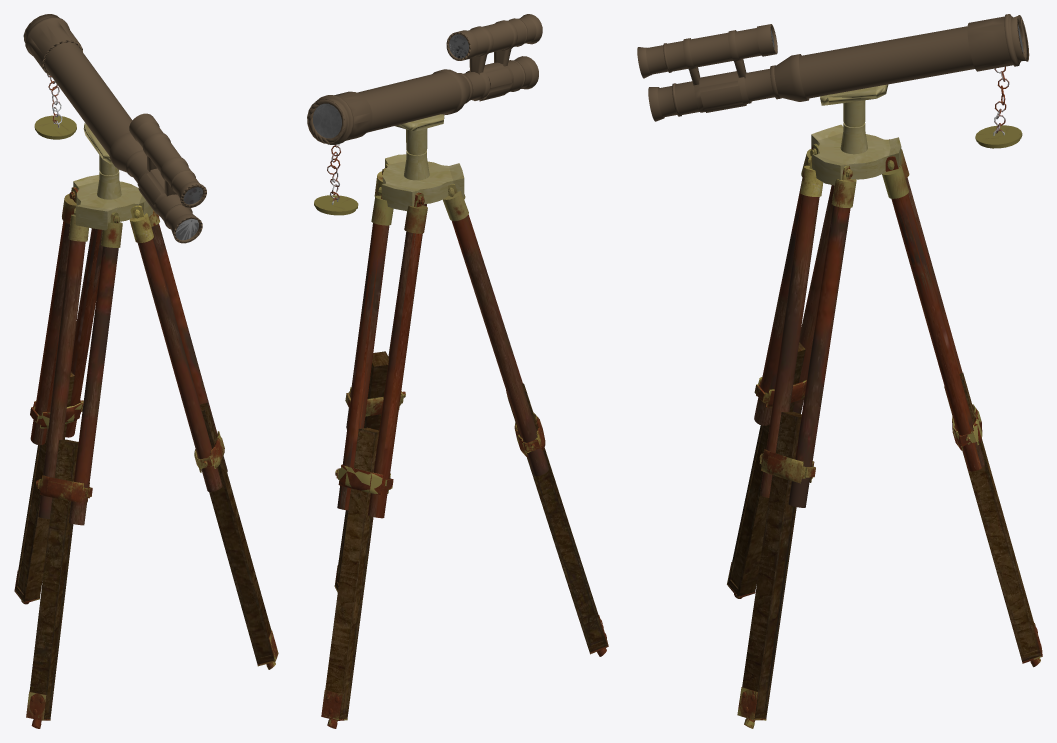
Rendered from luneta-tripe.glb.
The picture shows the model from 3 angles, left to right: view 1: azimuth 30°, elevation 25°; view 2: azimuth 150°, elevation 25°; view 3: azimuth 270°, elevation 25°; orthographic projection. The views are drawn at different scales.
Parts seen in each view (by area): view 1: luneta-tripe; view 2: luneta-tripe; view 3: luneta-tripe.
Part boxes in pixels (left/top/right/bottom): luneta-tripe: left=14, top=14, right=278, bottom=728; luneta-tripe: left=307, top=14, right=608, bottom=728; luneta-tripe: left=637, top=14, right=1042, bottom=728.
Size of the model in its own units: 0.7264 by 1.6 by 0.8958.
Materials: 32 (32 with a texture image).
